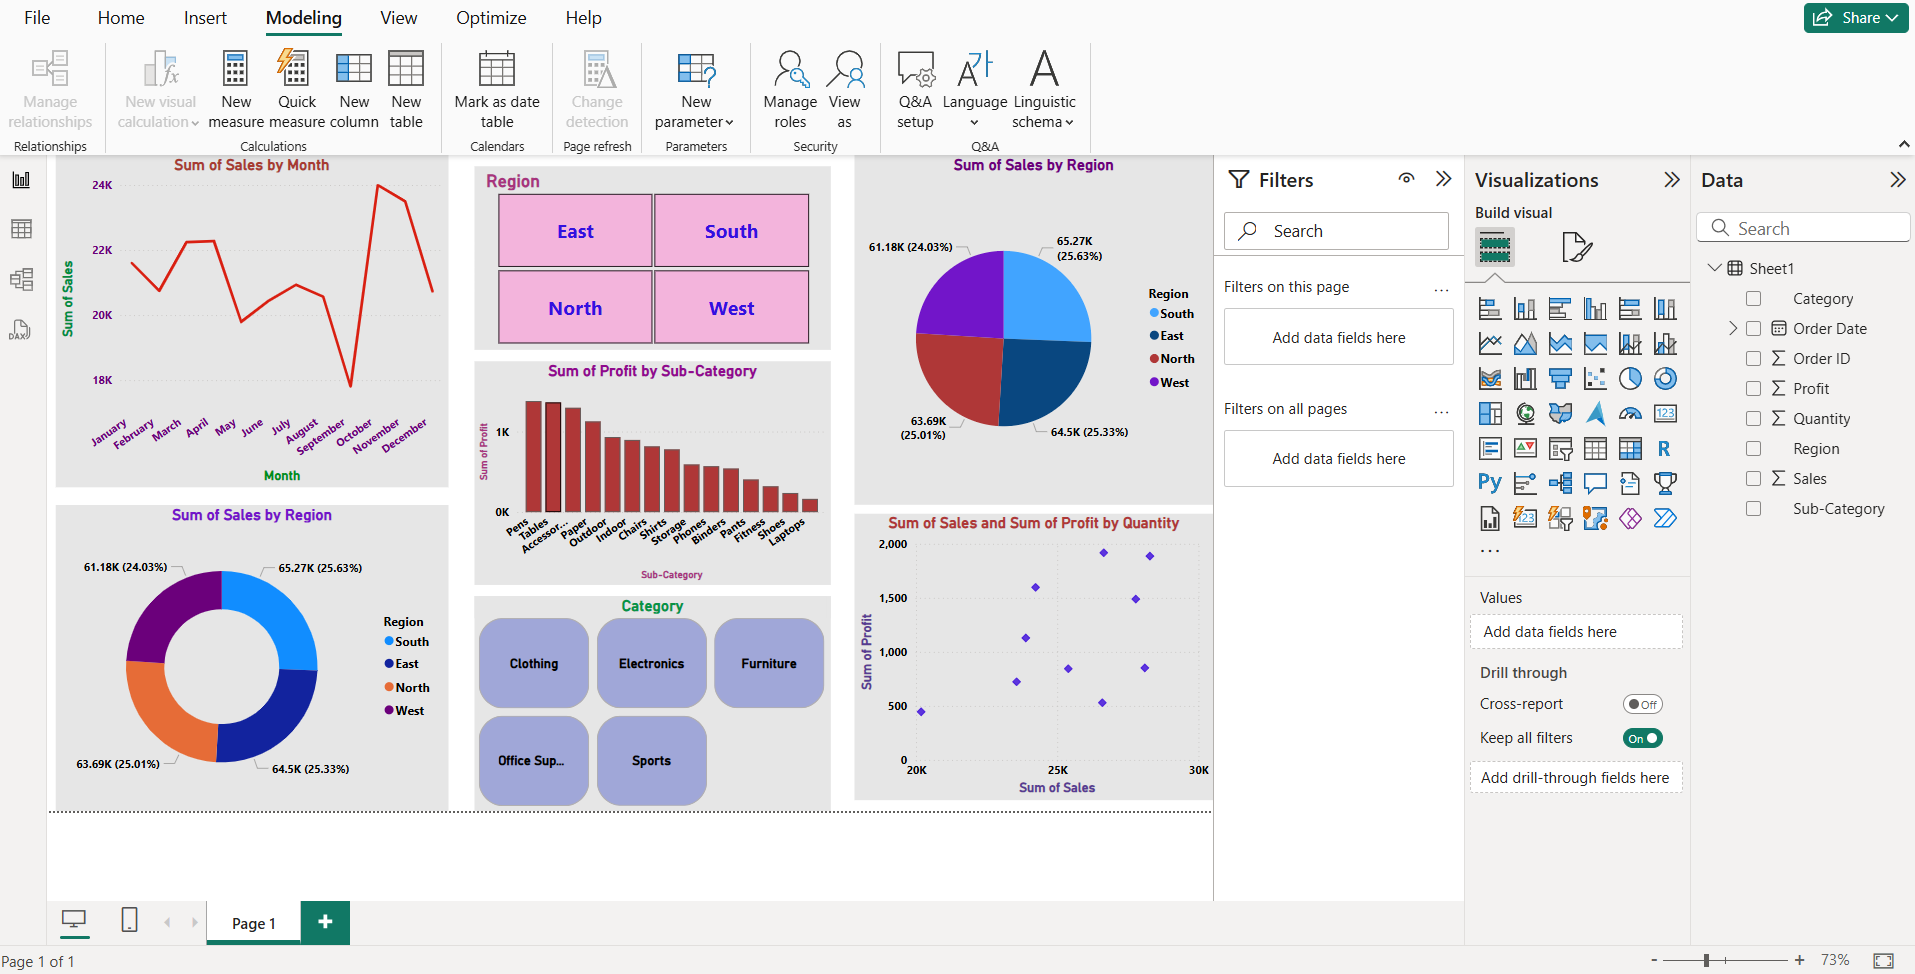

The page's visual inventory and layout, read from the dashboard file:
{"tool":"powerbi","page":{"name":"Page 1","canvas":[1280,720],"ordinal":0},"visuals":[{"type":"lineChart","fields":{"Y":["Sum(Sheet1.Sales)"],"Category":["Sheet1.Order Date.Variation.Date Hierarchy.Month"]},"box":[9.6,0,430.9,365],"z":0},{"type":"donutChart","fields":{"Y":["Sum(Sheet1.Sales)"],"Category":["Sheet1.Region"]},"box":[9.6,384.2,430.9,336.2],"z":1000},{"type":"advancedSlicerVisual","fields":{"Values":["Sheet1.Category"]},"box":[469.3,484.4,391.1,236],"z":2000},{"type":"slicer","fields":{"Values":["Sheet1.Region"]},"box":[469.3,12.3,391.1,201.7],"z":3000},{"type":"clusteredColumnChart","fields":{"Category":["Sheet1.Sub-Category"],"Y":["Sum(Sheet1.Profit)"]},"box":[469.3,226.4,391.1,245.6],"z":4000},{"type":"pieChart","fields":{"Y":["Sum(Sheet1.Sales)"],"Category":["Sheet1.Region"]},"box":[886.5,0,393.8,384.2],"z":5000},{"type":"scatterChart","fields":{"X":["Sum(Sheet1.Sales)"],"Y":["Sum(Sheet1.Profit)"],"Category":["Sheet1.Quantity"]},"box":[886.5,393.8,393.8,314.2],"z":6000}]}

Visuals, with their boxes on the page's 1280x720 design canvas (x1, y1, x2, y2). These are canvas units, not pixel positions in the 1915x974 screenshot, which may show the page scaled, cropped or inside an application window:
lineChart - Sum(Sheet1.Sales) x Sheet1.Order Date.Variation.Date Hierarchy.Month: box(10, 0, 440, 365)
donutChart - Sum(Sheet1.Sales) x Sheet1.Region: box(10, 384, 440, 720)
advancedSlicerVisual - Sheet1.Category: box(469, 484, 860, 720)
slicer - Sheet1.Region: box(469, 12, 860, 214)
clusteredColumnChart - Sheet1.Sub-Category x Sum(Sheet1.Profit): box(469, 226, 860, 472)
pieChart - Sum(Sheet1.Sales) x Sheet1.Region: box(886, 0, 1280, 384)
scatterChart - Sum(Sheet1.Sales) x Sum(Sheet1.Profit): box(886, 394, 1280, 708)
